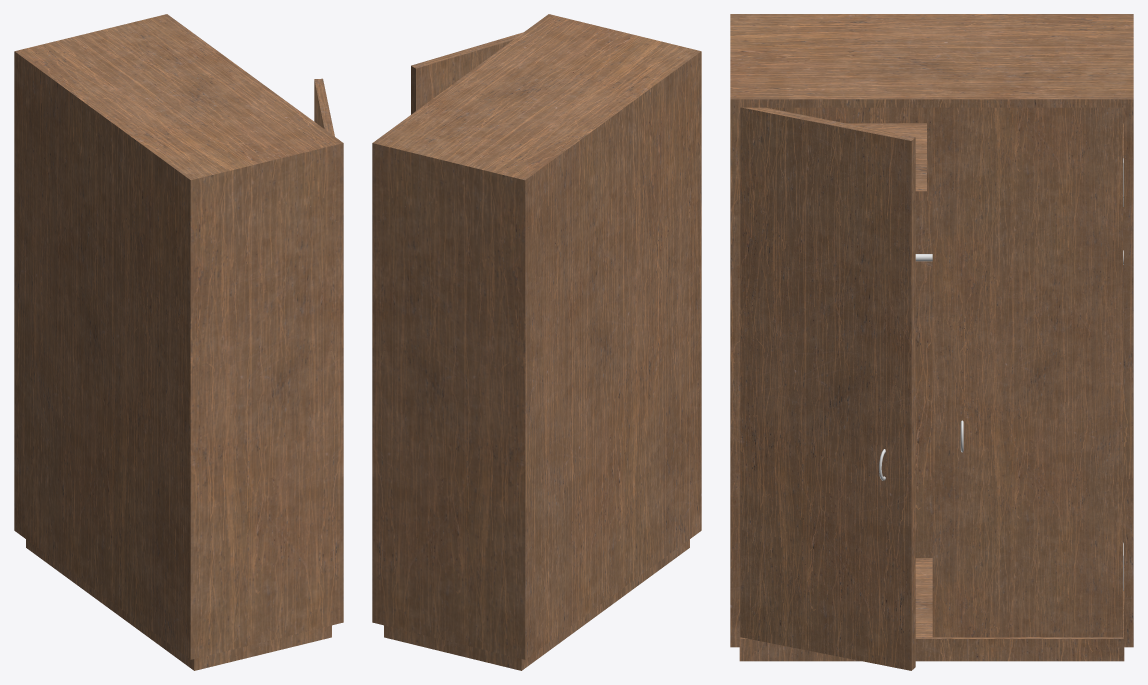
Rendered from Closet.fbx.
3 renders of one model, left to right at view 1: azimuth 30°, elevation 25°; view 2: azimuth 150°, elevation 25°; view 3: azimuth 270°, elevation 25°, orthographic. The views are drawn at different scales.
Parts seen in each view (by area): view 1: Closet, Left Door; view 2: Closet, Left Door; view 3: Right Door, Left Door, Closet.
Part boxes in pixels (<box>): Closet: <box>14,14,343,670</box>; Left Door: <box>314,78,334,136</box>; Closet: <box>372,14,701,670</box>; Left Door: <box>411,32,523,114</box>; Right Door: <box>932,107,1123,637</box>; Left Door: <box>740,107,915,670</box>; Closet: <box>730,14,1133,661</box>.
Bounding box in the file's own units: 277 × 620 × 400.
